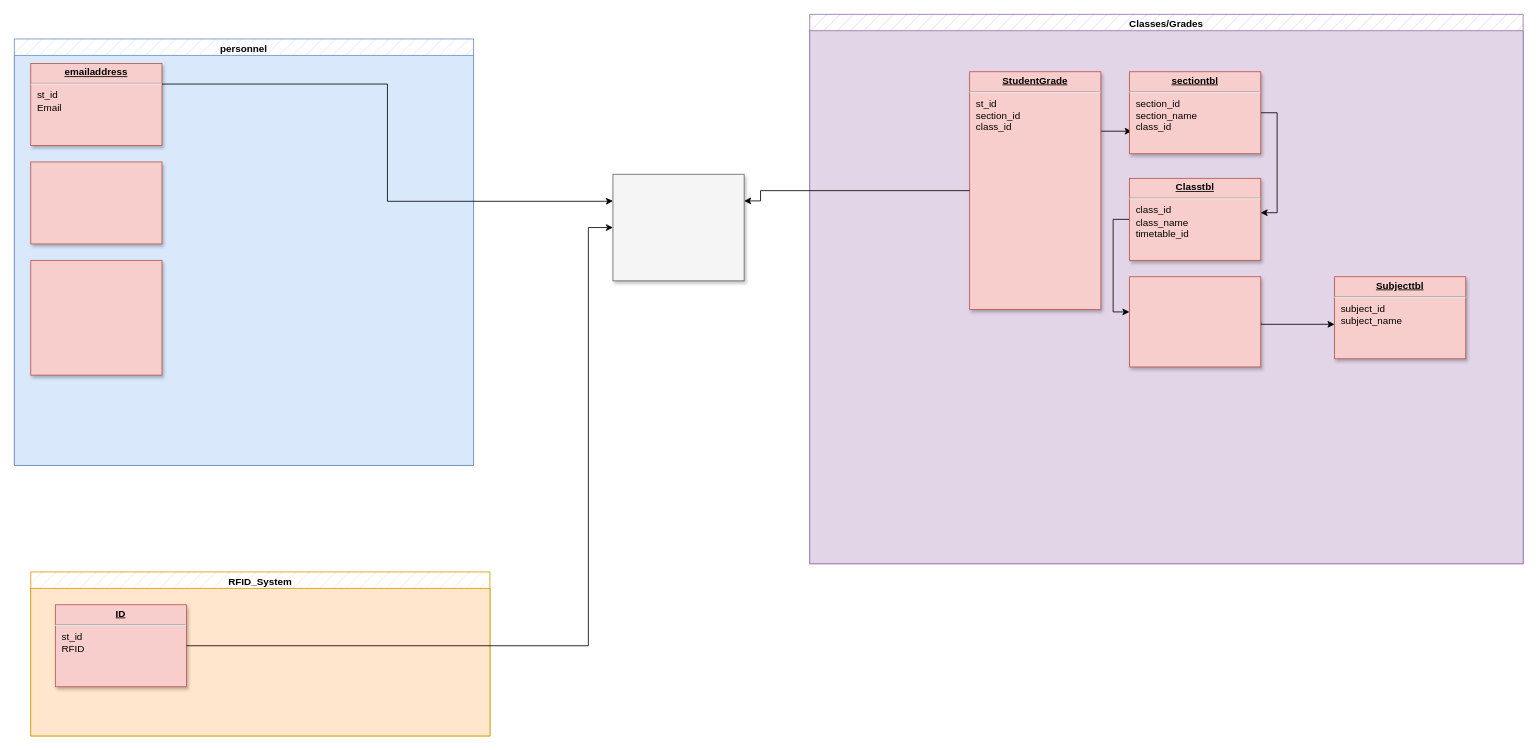
The diagram is 1538 pixels wide and 750 high, and some of its shapes have lost their labels. Here are the shapes that lost their labels. From the top down, the centre of each, then its label:
At [97,204]: "phonenumber st_id ph_num".
At [679,228]: "Sturdent st_id Name LName CreatedAt UpdatedAt".
At [97,318]: "personnel_info st_id Father's_name Mother's_name DOB POB Address Gender".
At [1195,323]: "c lass_timetable timetable_id subjectid day starttime endtime".
